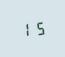five: (32, 20, 44, 35)
one: (19, 21, 31, 37)
